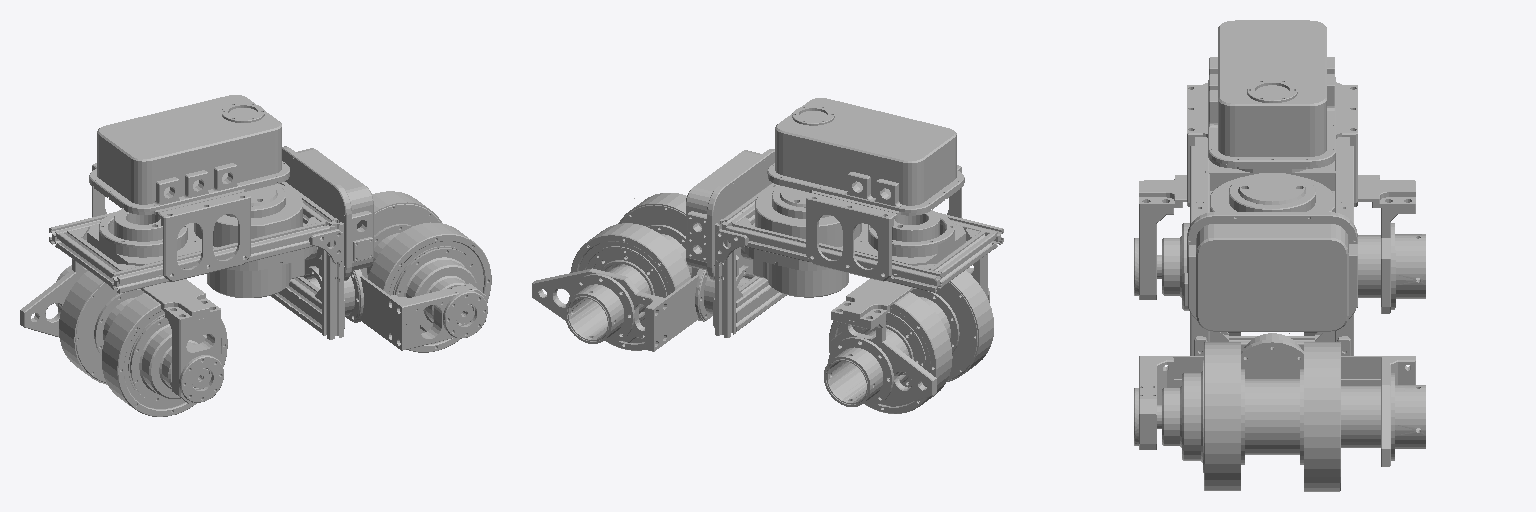
robot.urdf — ucrbot:
<robot
  name="ucrbot">
  <link
    name="base_link">
    <inertial>
      <origin
        xyz="-0.0174154107068305 0.0658230329314833 0.41"
        rpy="0 0 0" />
      <mass
        value="7.17075879708735" />
      <inertia
        ixx="0.0712694538653391"
        ixy="0.000136337717153692"
        ixz="-0.000161646044879388"
        iyy="0.0592974234763051"
        iyz="0.0150242886962805"
        izz="0.036203225755511" />
    </inertial>
    <visual>
      <origin
        xyz="0 0 0"
        rpy="0 0 0" />
      <geometry>
        <mesh
          filename="package://ucrbot/meshes/base_link.STL" />
      </geometry>
      <material
        name="">
        <color
          rgba="0.752941176470588 0.752941176470588 0.752941176470588 1" />
      </material>
    </visual>
    <collision>
      <origin
        xyz="0 0 0"
        rpy="0 0 0" />
      <geometry>
        <mesh
          filename="package://ucrbot/meshes/base_link.STL" />
      </geometry>
    </collision>
  </link>
  <link
    name="front_holder">
    <inertial>
      <origin
        xyz="0.00255605985229366 -0.0170761250332246 -0.0021770708658958"
        rpy="0 0 0" />
      <mass
        value="2.95565551037739" />
      <inertia
        ixx="0.00979367949400859"
        ixy="-6.1351638526207E-06"
        ixz="0.000730679286902558"
        iyy="0.0249517390279264"
        iyz="-0.000287272828549466"
        izz="0.0314014275502981" />
    </inertial>
    <visual>
      <origin
        xyz="0 0 0"
        rpy="0 0 0" />
      <geometry>
        <mesh
          filename="package://ucrbot/meshes/front_holder.STL" />
      </geometry>
      <material
        name="">
        <color
          rgba="0.752941176470588 0.752941176470588 0.752941176470588 1" />
      </material>
    </visual>
    <collision>
      <origin
        xyz="0 0 0"
        rpy="0 0 0" />
      <geometry>
        <mesh
          filename="package://ucrbot/meshes/front_holder.STL" />
      </geometry>
    </collision>
  </link>
  <joint
    name="steer_joint"
    type="revolute">
    <origin
      xyz="-0.017385 -0.2605 0"
      rpy="1.5708 1.257E-19 0.0020529" />
    <parent
      link="base_link" />
    <child
      link="front_holder" />
    <axis
      xyz="0 1 0" />
    <limit
      lower="-0.5"
      upper="0.5"
      effort="0"
      velocity="1" />
  </joint>
  <link
    name="front_left_wheel">
    <inertial>
      <origin
        xyz="0.0175614847435544 -3.75532938079459E-14 5.55111512312578E-17"
        rpy="0 0 0" />
      <mass
        value="2.96434014657607" />
      <inertia
        ixx="0.0114002485862291"
        ixy="-1.14968400817537E-14"
        ixz="8.58044375568606E-18"
        iyy="0.00602162995230769"
        iyz="9.89488338535986E-19"
        izz="0.00602162995230769" />
    </inertial>
    <visual>
      <origin
        xyz="0 0 0"
        rpy="0 0 0" />
      <geometry>
        <mesh
          filename="package://ucrbot/meshes/front_left_wheel.STL" />
      </geometry>
      <material
        name="">
        <color
          rgba="0.752941176470588 0.752941176470588 0.752941176470588 1" />
      </material>
    </visual>
    <collision>
      <origin
        xyz="0 0 0"
        rpy="0 0 0" />
      <geometry>
        <mesh
          filename="package://ucrbot/meshes/front_left_wheel.STL" />
      </geometry>
    </collision>
  </link>
  <joint
    name="front_left_drive_joint"
    type="continuous">
    <origin
      xyz="-0.0325001601438198 -0.0614618553961881 0"
      rpy="3.14159265358979 4.33680868994202E-19 3.14159265358979" />
    <parent
      link="front_holder" />
    <child
      link="front_left_wheel" />
    <axis
      xyz="-1 0 0" />
  </joint>
  <link
    name="front_right_wheel">
    <inertial>
      <origin
        xyz="0.0175614847440073 3.75394160201381E-14 1.66533453693773E-16"
        rpy="0 0 0" />
      <mass
        value="2.96434014657607" />
      <inertia
        ixx="0.011400248586229"
        ixy="1.1496668554298E-14"
        ixz="8.93026836290209E-18"
        iyy="0.00602162995230769"
        iyz="6.44411201662903E-19"
        izz="0.00602162995230769" />
    </inertial>
    <visual>
      <origin
        xyz="0 0 0"
        rpy="0 0 0" />
      <geometry>
        <mesh
          filename="package://ucrbot/meshes/front_right_wheel.STL" />
      </geometry>
      <material
        name="">
        <color
          rgba="0.752941176470588 0.752941176470588 0.752941176470588 1" />
      </material>
    </visual>
    <collision>
      <origin
        xyz="0 0 0"
        rpy="0 0 0" />
      <geometry>
        <mesh
          filename="package://ucrbot/meshes/front_right_wheel.STL" />
      </geometry>
    </collision>
  </link>
  <joint
    name="front_right_drive_joint"
    type="continuous">
    <origin
      xyz="0.0325001601436291 -0.0614618553960491 0"
      rpy="0 0 0" />
    <parent
      link="front_holder" />
    <child
      link="front_right_wheel" />
    <axis
      xyz="1 0 0" />
  </joint>
  <link
    name="rear_holder">
    <inertial>
      <origin
        xyz="0.00332218345670297 -0.0978727791645708 0.000686032593414897"
        rpy="0 0 0" />
      <mass
        value="2.62485787651341" />
      <inertia
        ixx="0.00754609839474726"
        ixy="0.00061660222899901"
        ixz="-8.40567181180612E-05"
        iyy="0.0222619885517914"
        iyz="-3.89782227790271E-05"
        izz="0.0273906877517284" />
    </inertial>
    <visual>
      <origin
        xyz="0 0 0"
        rpy="0 0 0" />
      <geometry>
        <mesh
          filename="package://ucrbot/meshes/rear_holder.STL" />
      </geometry>
      <material
        name="">
        <color
          rgba="0.752941176470588 0.752941176470588 0.752941176470588 1" />
      </material>
    </visual>
    <collision>
      <origin
        xyz="0 0 0"
        rpy="0 0 0" />
      <geometry>
        <mesh
          filename="package://ucrbot/meshes/rear_holder.STL" />
      </geometry>
    </collision>
  </link>
  <joint
    name="rear_rolling_joint"
    type="continuous">
    <origin
      xyz="-0.0173847686329671 -0.494499991301886 -0.0614618553961184"
      rpy="0 0 0" />
    <parent
      link="base_link" />
    <child
      link="rear_holder" />
    <axis
      xyz="0 -1 0" />
  </joint>
  <link
    name="rear_left_wheel">
    <inertial>
      <origin
        xyz="0.0175616562104351 9.38575994702262E-10 6.93889390390723E-17"
        rpy="0 0 0" />
      <mass
        value="2.96434014657606" />
      <inertia
        ixx="0.011400248586229"
        ixy="2.87458252733412E-10"
        ixz="2.93116891355632E-18"
        iyy="0.00602162995230769"
        iyz="8.12166916911443E-19"
        izz="0.00602162995230767" />
    </inertial>
    <visual>
      <origin
        xyz="0 0 0"
        rpy="0 0 0" />
      <geometry>
        <mesh
          filename="package://ucrbot/meshes/rear_left_wheel.STL" />
      </geometry>
      <material
        name="">
        <color
          rgba="0.752941176470588 0.752941176470588 0.752941176470588 1" />
      </material>
    </visual>
    <collision>
      <origin
        xyz="0 0 0"
        rpy="0 0 0" />
      <geometry>
        <mesh
          filename="package://ucrbot/meshes/rear_left_wheel.STL" />
      </geometry>
    </collision>
  </link>
  <joint
    name="rear_left_drive_joint"
    type="continuous">
    <origin
      xyz="-0.032499981729268 -0.130000017743615 0"
      rpy="0 0 -3.14159265358979" />
    <parent
      link="rear_holder" />
    <child
      link="rear_left_wheel" />
    <axis
      xyz="-1 0 0" />
  </joint>
  <link
    name="rear_right_wheel">
    <inertial>
      <origin
        xyz="0.017561656210435 0 0"
        rpy="0 0 0" />
      <mass
        value="2.96434014657607" />
      <inertia
        ixx="0.011400248586229"
        ixy="2.87458251783402E-10"
        ixz="-2.87458249351805E-10"
        iyy="0.00602162995230771"
        iyz="-1.50888407884945E-17"
        izz="0.00602162995230771" />
    </inertial>
    <visual>
      <origin
        xyz="0 0 0"
        rpy="0 0 0" />
      <geometry>
        <mesh
          filename="package://ucrbot/meshes/rear_right_wheel.STL" />
      </geometry>
      <material
        name="">
        <color
          rgba="0.752941176470588 0.752941176470588 0.752941176470588 1" />
      </material>
    </visual>
    <collision>
      <origin
        xyz="0 0 0"
        rpy="0 0 0" />
      <geometry>
        <mesh
          filename="package://ucrbot/meshes/rear_right_wheel.STL" />
      </geometry>
    </collision>
  </link>
  <joint
    name="rear_right_drive_joint"
    type="continuous">
    <origin
      xyz="0.032499995624872 -0.130000014269716 0"
      rpy="1.57079632679489 0 0" />
    <parent
      link="rear_holder" />
    <child
      link="rear_right_wheel" />
    <axis
      xyz="0.999999999999997 0 0" />
  </joint>
  
  <link name="base_footprint">
    <visual>
      <origin xyz="0 0 0" rpy="0 0 0" />
      <geometry>
          <box size="0.001 0.001 0.001" />
      </geometry>
    </visual>
  </link>
  <joint name="base_footprint_joint" type="fixed">
    <origin xyz="-0.64 0 -0.04" rpy="0 0 1.5708" />        
    <parent link="base_footprint"/>
    <child link="base_link" />
  </joint>
</robot>

--- Render facts (derived) ---
3 views of the same robot in one strip: view 1: azimuth 30°, elevation 25°; view 2: azimuth 150°, elevation 25°; view 3: azimuth 270°, elevation 25° (orthographic).
Model ucrbot with 8 links and 7 joints (1 revolute, 5 continuous, 1 fixed), rooted at base_footprint, posed all joints at 0.
Links seen in each view (by area): view 1: base_link, front_holder, rear_holder, front_left_wheel, rear_left_wheel, front_right_wheel, rear_right_wheel; view 2: base_link, front_holder, rear_holder, rear_right_wheel, front_right_wheel, front_left_wheel, rear_left_wheel; view 3: base_link, rear_holder, front_holder, rear_right_wheel, rear_left_wheel.
Boxes of the visible links, x1=… form: base_link: x1=49, y1=95, x2=373, y2=339; front_holder: x1=20, y1=208, x2=223, y2=403; rear_holder: x1=303, y1=224, x2=487, y2=350; front_left_wheel: x1=102, y1=293, x2=227, y2=416; rear_left_wheel: x1=368, y1=222, x2=491, y2=352; front_right_wheel: x1=59, y1=271, x2=119, y2=384; rear_right_wheel: x1=372, y1=191, x2=441, y2=239; base_link: x1=686, y1=98, x2=1003, y2=337; front_holder: x1=824, y1=210, x2=989, y2=406; rear_holder: x1=532, y1=225, x2=754, y2=351; rear_right_wheel: x1=570, y1=223, x2=691, y2=350; front_right_wheel: x1=829, y1=292, x2=952, y2=413; front_left_wheel: x1=910, y1=270, x2=993, y2=381; rear_left_wheel: x1=618, y1=193, x2=686, y2=240; base_link: x1=1184, y1=20, x2=1357, y2=355; rear_holder: x1=1134, y1=333, x2=1425, y2=472; front_holder: x1=1134, y1=175, x2=1425, y2=313; rear_right_wheel: x1=1304, y1=342, x2=1340, y2=491; rear_left_wheel: x1=1204, y1=342, x2=1240, y2=490.
Size in the robot's own frame: 0.5642 by 0.2996 by 0.3405 metres.
7 mesh visuals loaded from 7 distinct referenced files (7 binary STL).